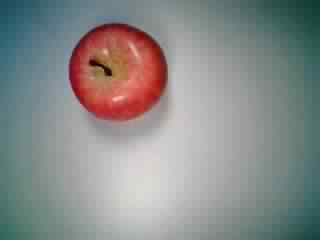apple: (63, 22, 169, 126)
